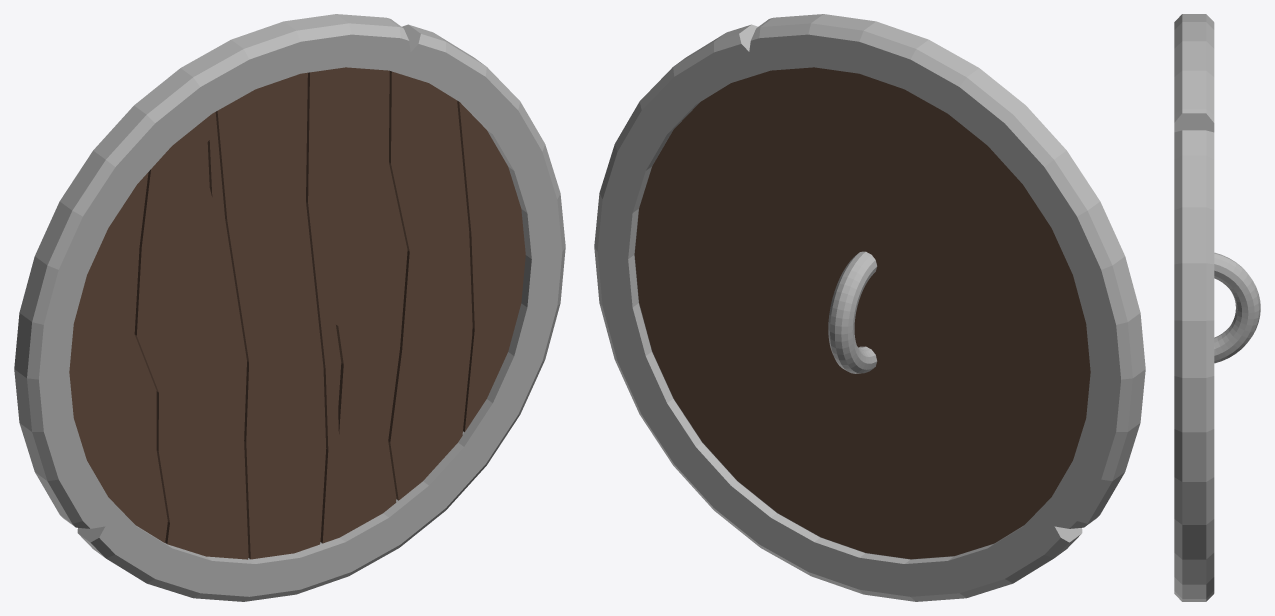
Rendered from Wooden Shield.fbx.
3 renders of one model, left to right at view 1: azimuth 30°, elevation 25°; view 2: azimuth 150°, elevation 25°; view 3: azimuth 270°, elevation 25°, orthographic. The views are drawn at different scales.
Parts seen in each view (by area): view 1: Shield 0; view 2: Shield 0; view 3: Shield 0.
Part boxes in pixels (bbox=[...]): Shield 0: bbox=[14, 14, 565, 601]; Shield 0: bbox=[594, 14, 1145, 601]; Shield 0: bbox=[1174, 14, 1260, 601].
Size of the model in its own units: 0.763 by 0.763 by 0.1123.
